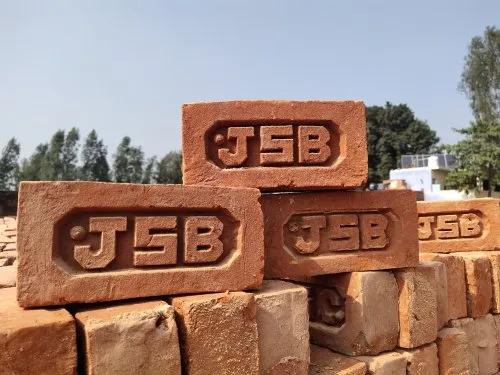brick: (15, 183, 263, 309), (183, 98, 365, 185), (265, 191, 418, 278), (87, 311, 177, 375), (189, 291, 256, 374), (418, 198, 499, 254), (1, 323, 77, 374), (260, 290, 302, 373), (358, 269, 396, 352), (406, 278, 435, 345), (445, 257, 466, 318), (470, 256, 490, 312)
